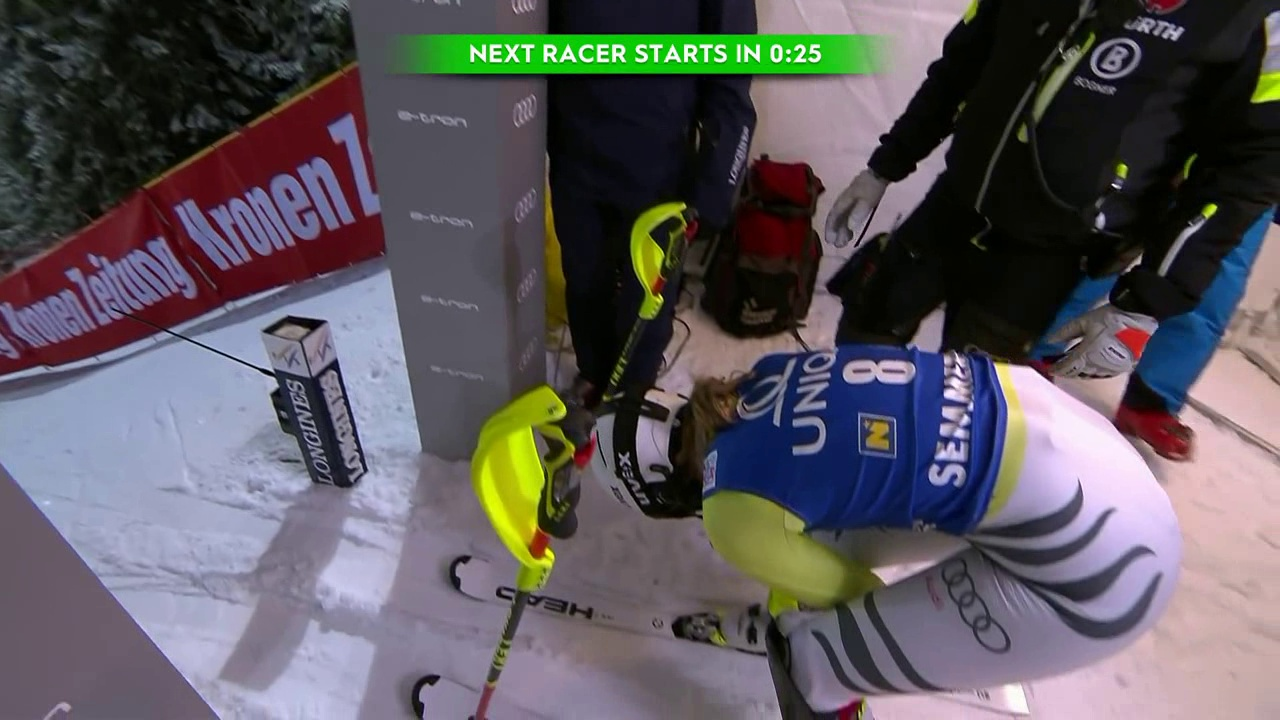audi: (501, 1, 545, 21)
etron: (386, 105, 472, 131), (400, 206, 482, 230), (419, 290, 478, 314)
kronenzeitung: (179, 109, 361, 306), (12, 228, 173, 377)
longines: (268, 350, 364, 490)
